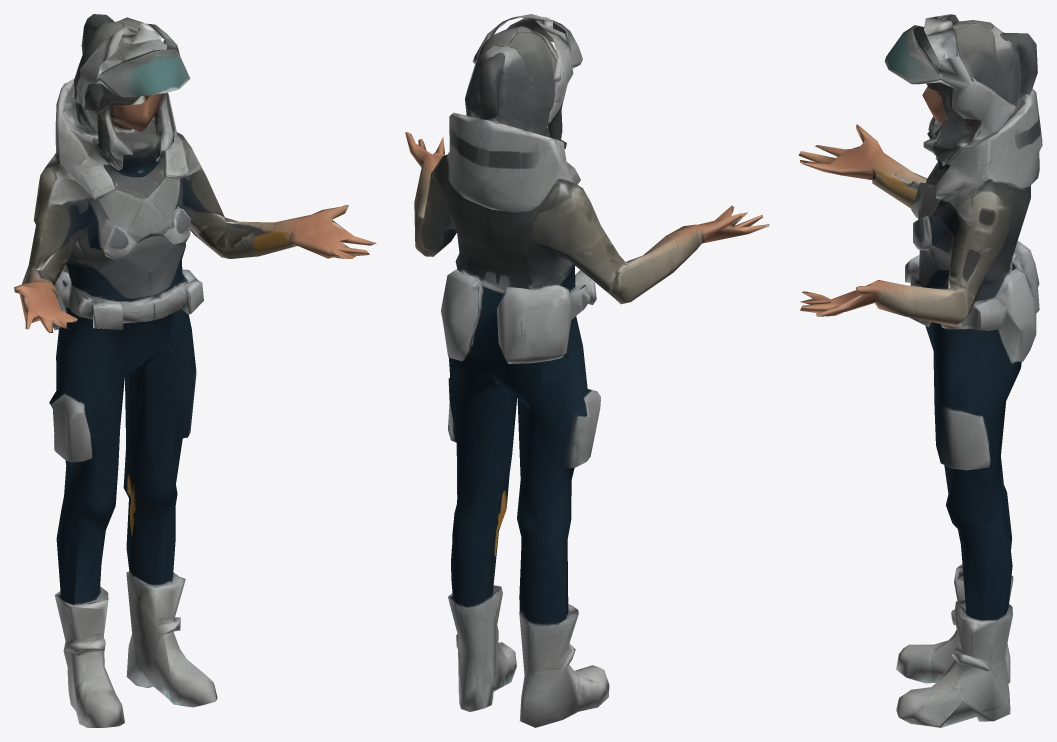
File: orbit.glb
3 renders of one model, left to right at view 1: azimuth 30°, elevation 25°; view 2: azimuth 150°, elevation 25°; view 3: azimuth 270°, elevation 25°, orthographic.
Bounding box in the file's own units: 1.03 × 1.9 × 0.6162.
Materials: 1 (1 with a texture image).
